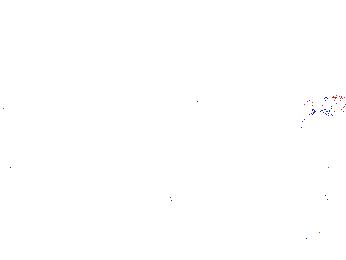glassfish: (210, 118, 294, 188), (130, 192, 176, 227)
red belly glassfish: (308, 96, 346, 119)
